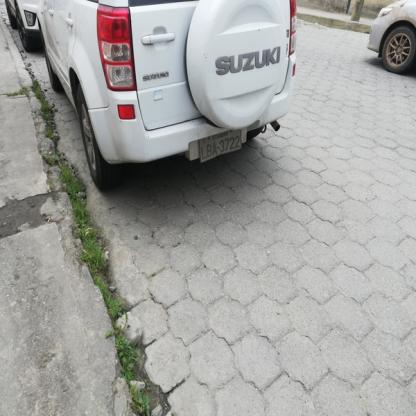Placa: (188, 130, 249, 165)
